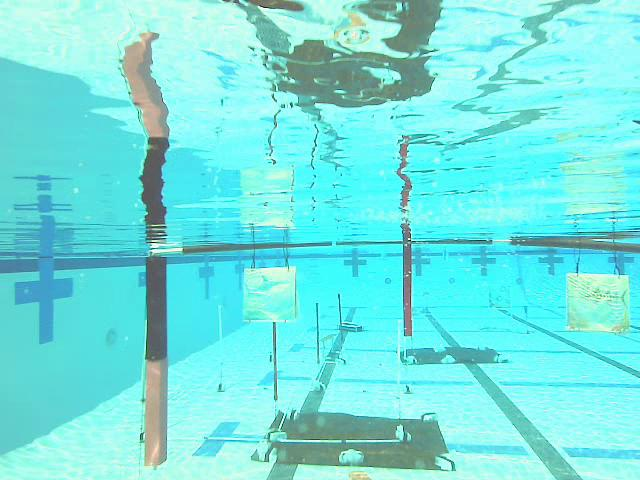black_poster: (311, 296, 326, 367), (270, 321, 281, 402), (333, 287, 349, 342)
left_gate_poster: (143, 357, 168, 467), (144, 255, 168, 358)
shark: (242, 265, 299, 322)
swordfish: (564, 270, 632, 337)
white_poster: (214, 303, 227, 395), (396, 316, 402, 404)
